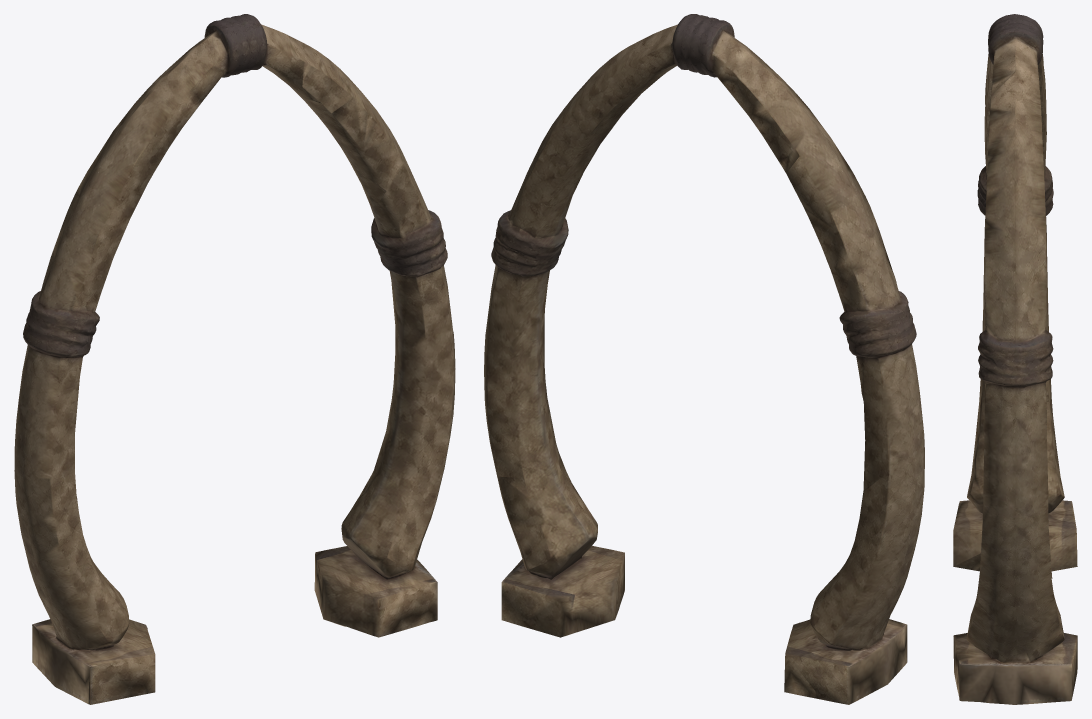
Rendered from prp_lm_bone_arch.glb.
The picture shows the model from 3 angles, left to right: view 1: azimuth 30°, elevation 25°; view 2: azimuth 150°, elevation 25°; view 3: azimuth 270°, elevation 25°; orthographic projection. The views are drawn at different scales.
Parts seen in each view (by area): view 1: prp_lm_bone_arch; view 2: prp_lm_bone_arch; view 3: prp_lm_bone_arch.
Boxes of the visible parts, x1,y1,x2,y2 form: prp_lm_bone_arch: (14, 14, 455, 704); prp_lm_bone_arch: (484, 14, 924, 704); prp_lm_bone_arch: (953, 14, 1077, 704).
Bounding box in the file's own units: 6.51 × 9 × 1.69.
1 material, 1 textured.
